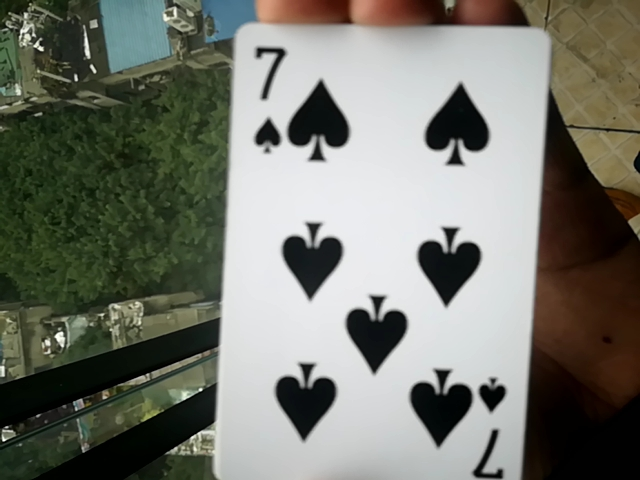ht 7: (202, 6, 537, 480)
